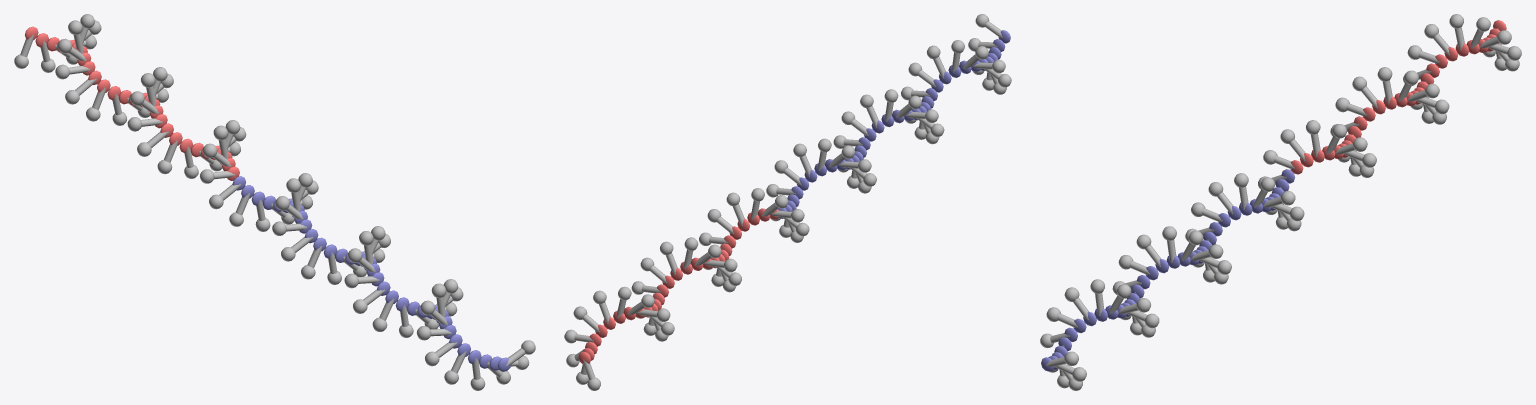
File: test dayo1.gltf
3 views of the same model, side by side, from view 1: azimuth 30°, elevation 25°; view 2: azimuth 150°, elevation 25°; view 3: azimuth 330°, elevation 25° (orthographic). The views are drawn at different scales.
Size of what is drawn, in the model's own units: 2.37 by 2.4 by 25.33.
